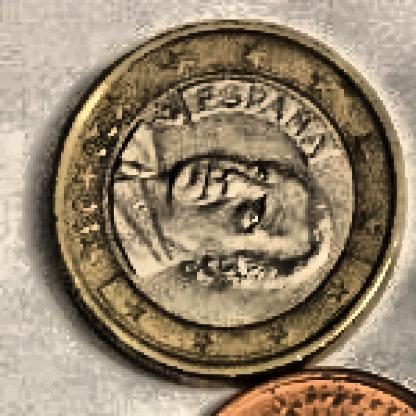coin: (49, 19, 407, 389)
